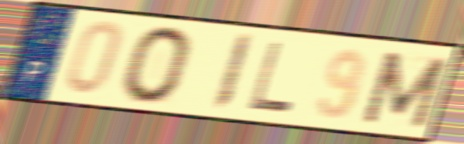0: (61, 19, 125, 99)
9: (315, 46, 372, 122)
I: (208, 31, 256, 114)
L: (245, 39, 297, 116)
M: (358, 48, 452, 130)
O: (119, 24, 195, 106)
